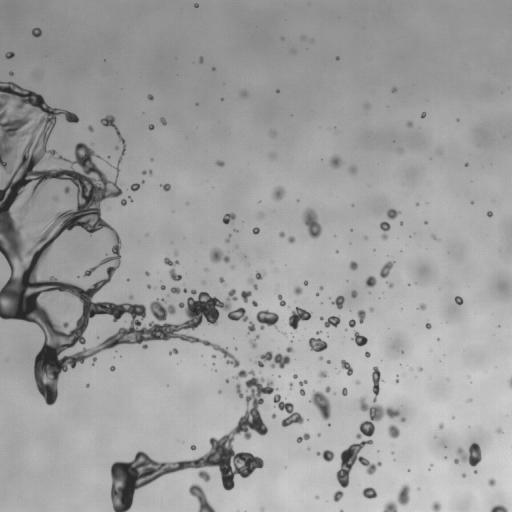droplet: (308, 386, 331, 420), (453, 442, 481, 466), (301, 207, 322, 238), (209, 246, 230, 263), (307, 336, 327, 352), (350, 330, 368, 346), (319, 314, 340, 327), (316, 449, 334, 462), (329, 154, 344, 169), (271, 186, 285, 201), (379, 221, 390, 240), (340, 359, 353, 375), (222, 212, 236, 226), (331, 295, 345, 309), (362, 486, 377, 499), (387, 424, 400, 438), (386, 208, 401, 220), (248, 334, 260, 349), (365, 275, 377, 288), (240, 290, 252, 303), (245, 321, 255, 336), (356, 309, 365, 323), (21, 80, 32, 91), (43, 95, 54, 106), (98, 199, 109, 210), (219, 243, 230, 254), (200, 252, 211, 263), (356, 282, 367, 293), (151, 288, 162, 299), (216, 290, 227, 301), (91, 292, 102, 303), (169, 293, 180, 304), (268, 302, 279, 313), (245, 307, 256, 318), (177, 311, 188, 322), (417, 311, 428, 322), (143, 312, 154, 323), (278, 312, 289, 323), (165, 313, 176, 324), (140, 316, 151, 327), (12, 317, 23, 328), (235, 319, 246, 330), (355, 323, 366, 334), (167, 336, 178, 347), (239, 341, 250, 352), (342, 375, 353, 386), (54, 380, 65, 391), (304, 383, 315, 394), (376, 395, 387, 406), (309, 406, 320, 417), (260, 413, 271, 424), (379, 415, 390, 426), (233, 432, 244, 443), (231, 442, 242, 453), (200, 443, 211, 454), (122, 452, 133, 463), (331, 456, 342, 467), (351, 461, 362, 472), (209, 465, 220, 476), (186, 466, 197, 477), (478, 470, 489, 481), (363, 476, 374, 487), (132, 487, 143, 498), (387, 491, 398, 502), (374, 495, 385, 506), (188, 496, 199, 507), (333, 490, 343, 502), (0, 73, 10, 84), (32, 27, 42, 37), (431, 501, 441, 511), (348, 165, 357, 175), (349, 260, 358, 270), (293, 286, 302, 296), (159, 183, 170, 191), (239, 89, 248, 98), (454, 296, 463, 305), (487, 478, 496, 487), (56, 113, 65, 122), (93, 121, 102, 130), (338, 151, 347, 160), (338, 163, 347, 172), (265, 185, 274, 194), (281, 193, 290, 202), (315, 215, 324, 224), (178, 293, 187, 302), (235, 298, 244, 307), (243, 301, 252, 310), (330, 306, 339, 315), (217, 307, 226, 316), (339, 317, 348, 326), (185, 327, 194, 336), (346, 327, 355, 336), (147, 338, 156, 347), (33, 343, 42, 352), (318, 361, 327, 370), (28, 380, 37, 389), (226, 382, 235, 391), (263, 393, 272, 402), (36, 394, 45, 403), (328, 405, 337, 414), (278, 409, 287, 418), (360, 411, 369, 420), (441, 415, 450, 424), (390, 416, 399, 425), (188, 451, 197, 460), (103, 472, 112, 481), (232, 473, 241, 482), (195, 477, 204, 486), (407, 489, 416, 498), (206, 496, 215, 505), (5, 51, 14, 59), (416, 303, 426, 310), (168, 348, 178, 355), (395, 505, 406, 511), (269, 129, 277, 137), (256, 211, 264, 219), (348, 319, 356, 327), (341, 387, 348, 396), (505, 501, 511, 511), (252, 227, 260, 234), (385, 281, 393, 288), (495, 427, 503, 434), (0, 277, 5, 288), (425, 320, 431, 329), (406, 120, 413, 127), (87, 125, 94, 132), (486, 210, 493, 217), (288, 236, 295, 243), (9, 75, 16, 82), (69, 106, 76, 113), (153, 120, 160, 127), (106, 125, 113, 132), (55, 147, 62, 154), (68, 153, 75, 160), (324, 154, 331, 161), (323, 157, 330, 164), (272, 180, 279, 187), (282, 183, 289, 190), (99, 212, 106, 219), (394, 214, 401, 221), (301, 224, 308, 231), (318, 231, 325, 238), (309, 236, 316, 243), (376, 262, 383, 269), (174, 267, 181, 274), (388, 267, 395, 274), (111, 270, 118, 277), (373, 272, 380, 279), (360, 274, 367, 281), (385, 274, 392, 281), (144, 276, 151, 283), (172, 280, 179, 287), (243, 284, 250, 291), (234, 290, 241, 297), (343, 293, 350, 300), (113, 298, 120, 305), (255, 304, 262, 311), (144, 307, 151, 314), (364, 311, 371, 318), (297, 319, 304, 326), (253, 320, 260, 327), (248, 331, 255, 338), (319, 333, 326, 340), (134, 342, 141, 349), (114, 343, 121, 350), (360, 344, 367, 351), (205, 345, 212, 352), (227, 346, 234, 353), (280, 349, 287, 356), (215, 350, 222, 357), (233, 351, 240, 358), (84, 356, 91, 363), (28, 358, 35, 365), (263, 359, 270, 366), (252, 364, 259, 371), (232, 366, 239, 373), (312, 367, 319, 374), (58, 370, 65, 377), (254, 372, 261, 379), (239, 376, 246, 383), (229, 378, 236, 385), (239, 383, 246, 390), (293, 383, 300, 390), (318, 386, 325, 393), (305, 391, 312, 398), (260, 392, 267, 399), (54, 396, 61, 403), (366, 399, 373, 406), (353, 401, 360, 408), (391, 403, 398, 410), (256, 404, 263, 411), (272, 406, 279, 413), (238, 409, 245, 416), (231, 419, 238, 426), (289, 422, 296, 429), (249, 428, 256, 435), (309, 432, 316, 439), (214, 433, 221, 440), (361, 434, 368, 441), (392, 436, 399, 443), (341, 443, 348, 450), (478, 444, 485, 451), (462, 447, 469, 454), (479, 449, 486, 456), (148, 452, 155, 459), (368, 457, 375, 464), (360, 464, 367, 471), (252, 467, 259, 474), (104, 468, 111, 475), (163, 472, 170, 479), (334, 483, 341, 490), (338, 496, 345, 503), (491, 499, 498, 506), (363, 103, 371, 109), (160, 117, 166, 125), (269, 152, 275, 160), (216, 160, 224, 166), (120, 198, 126, 206), (351, 290, 357, 298), (420, 112, 427, 118), (278, 231, 285, 237), (252, 300, 259, 306), (364, 350, 370, 357), (438, 422, 444, 429), (190, 444, 197, 450), (173, 250, 178, 258), (315, 330, 323, 335), (391, 87, 397, 93), (147, 94, 153, 100), (148, 124, 154, 130), (109, 365, 115, 371), (0, 51, 4, 60), (397, 148, 404, 153), (148, 169, 153, 176), (144, 271, 150, 276), (303, 280, 308, 286), (417, 366, 423, 371), (199, 56, 203, 63), (466, 398, 473, 402), (126, 507, 133, 511), (427, 507, 434, 511), (438, 507, 445, 511), (141, 170, 146, 175), (363, 235, 368, 240), (234, 244, 239, 249), (201, 280, 206, 285), (146, 284, 151, 289), (160, 285, 165, 290), (318, 285, 323, 290), (128, 294, 133, 299), (211, 354, 216, 359), (292, 374, 297, 379), (355, 380, 360, 385), (271, 413, 276, 418), (461, 473, 466, 478), (314, 494, 319, 499), (40, 27, 45, 32), (40, 31, 45, 36), (37, 35, 42, 40), (33, 36, 38, 41), (10, 47, 15, 52), (10, 56, 15, 61), (194, 56, 199, 61), (14, 79, 19, 84), (386, 86, 391, 91), (35, 89, 40, 94), (392, 91, 397, 96), (75, 112, 80, 117), (100, 113, 105, 118), (164, 116, 169, 121), (112, 119, 117, 124), (401, 120, 406, 125), (70, 121, 75, 126), (407, 126, 412, 131), (120, 132, 125, 137), (113, 134, 118, 139), (79, 138, 84, 143), (85, 142, 90, 147), (118, 143, 123, 148), (45, 145, 50, 150), (70, 145, 75, 150), (117, 146, 122, 151), (218, 156, 223, 161), (118, 163, 123, 168), (216, 165, 221, 170), (141, 174, 146, 179), (135, 178, 140, 183), (158, 186, 163, 191), (168, 187, 173, 192), (128, 189, 133, 194), (117, 194, 122, 199), (125, 198, 130, 203), (394, 206, 399, 211), (386, 218, 391, 223), (220, 222, 225, 227), (226, 222, 231, 227), (276, 227, 281, 232), (378, 228, 383, 233), (385, 229, 390, 234), (231, 231, 236, 236), (118, 233, 123, 238), (274, 233, 279, 238), (435, 233, 440, 238), (283, 234, 288, 239), (229, 236, 234, 241), (294, 236, 299, 241), (428, 237, 433, 242), (382, 239, 387, 244), (291, 241, 296, 246), (288, 242, 293, 247), (118, 249, 123, 254), (175, 255, 180, 260), (169, 256, 174, 261), (387, 256, 392, 261), (353, 257, 358, 262), (227, 260, 232, 265), (345, 261, 350, 266), (165, 264, 170, 269), (250, 273, 255, 278), (4, 275, 9, 280), (214, 278, 219, 283), (254, 278, 259, 283), (361, 280, 366, 285), (104, 282, 109, 287), (299, 283, 304, 288), (392, 283, 397, 288), (101, 284, 106, 289), (165, 285, 170, 290), (178, 285, 183, 290), (350, 285, 355, 290), (366, 285, 371, 290), (186, 286, 191, 291), (226, 286, 231, 291), (289, 286, 294, 291), (201, 287, 206, 292), (388, 287, 393, 292), (318, 289, 323, 294), (186, 291, 191, 296), (209, 292, 214, 297), (355, 293, 360, 298), (193, 295, 198, 300), (237, 295, 242, 300), (246, 295, 251, 300), (281, 295, 286, 300), (150, 296, 155, 301), (330, 296, 335, 301), (420, 298, 425, 303), (129, 299, 134, 304), (182, 299, 187, 304), (341, 302, 346, 307), (300, 304, 305, 309), (425, 304, 430, 309), (174, 305, 179, 310), (358, 305, 363, 310), (305, 307, 310, 312), (417, 308, 422, 313), (201, 316, 206, 321), (322, 316, 327, 321), (354, 317, 359, 322), (362, 317, 367, 322), (237, 318, 242, 323), (230, 319, 235, 324), (274, 320, 279, 325), (29, 321, 34, 326), (244, 321, 249, 326), (328, 324, 333, 329), (287, 325, 292, 330), (322, 326, 327, 331), (358, 330, 363, 335), (278, 333, 283, 338), (313, 333, 318, 338), (198, 334, 203, 339), (304, 336, 309, 341), (207, 337, 212, 342), (255, 338, 260, 343), (350, 339, 355, 344), (184, 340, 189, 345), (194, 341, 199, 346), (285, 342, 290, 347), (288, 342, 293, 347), (220, 343, 225, 348), (246, 343, 251, 348), (261, 349, 266, 354), (320, 349, 325, 354), (271, 351, 276, 356), (286, 351, 291, 356), (94, 352, 99, 357), (360, 352, 365, 357), (209, 357, 214, 362), (288, 358, 293, 363), (321, 358, 326, 363), (75, 360, 80, 365), (336, 362, 341, 367), (66, 363, 71, 368), (228, 363, 233, 368), (349, 363, 354, 368), (377, 366, 382, 371), (244, 367, 249, 372), (368, 368, 373, 373), (351, 370, 356, 375), (379, 373, 384, 378), (320, 376, 325, 381), (293, 378, 298, 383), (369, 381, 374, 386), (377, 381, 382, 386), (504, 381, 509, 386), (271, 383, 276, 388), (301, 384, 306, 389), (231, 386, 236, 391), (329, 387, 334, 392), (337, 387, 342, 392), (322, 391, 327, 396), (369, 391, 374, 396), (233, 392, 238, 397), (279, 396, 284, 401), (240, 397, 245, 402), (282, 398, 287, 403), (292, 407, 297, 412), (299, 411, 304, 416), (365, 416, 370, 421), (326, 417, 331, 422), (355, 421, 360, 426), (433, 423, 438, 428), (442, 424, 447, 429), (265, 430, 270, 435), (262, 433, 267, 438), (301, 438, 306, 443), (356, 438, 361, 443), (363, 443, 368, 448), (328, 446, 333, 451), (311, 448, 316, 453), (319, 448, 324, 453), (356, 451, 361, 456), (252, 452, 257, 457), (454, 453, 459, 458), (318, 454, 323, 459), (262, 460, 267, 465), (476, 461, 481, 466), (375, 465, 380, 470), (486, 474, 491, 479), (491, 474, 496, 479), (156, 476, 161, 481), (243, 476, 248, 481), (483, 479, 488, 484), (494, 480, 499, 485), (146, 482, 151, 487), (363, 483, 368, 488), (486, 484, 491, 489), (184, 485, 189, 490), (374, 487, 379, 492), (106, 488, 111, 493), (222, 488, 227, 493), (228, 488, 233, 493), (329, 491, 334, 496), (363, 496, 368, 501), (369, 497, 374, 502), (211, 368, 217, 372), (0, 128, 3, 135), (0, 183, 3, 190), (0, 252, 3, 259), (301, 35, 305, 40), (9, 71, 13, 76), (233, 228, 238, 232), (165, 293, 170, 297), (369, 307, 373, 312), (318, 356, 323, 360), (326, 360, 331, 364), (225, 378, 229, 383), (218, 389, 222, 394), (317, 432, 321, 437), (429, 462, 433, 467), (260, 506, 264, 511), (194, 3, 198, 7), (280, 36, 284, 40), (335, 56, 339, 60), (275, 89, 279, 93), (150, 157, 154, 161), (464, 162, 468, 166), (470, 200, 474, 204), (424, 220, 428, 224), (230, 265, 234, 269), (76, 274, 80, 278), (315, 292, 319, 296), (436, 337, 440, 341), (289, 339, 293, 343), (336, 370, 340, 374), (306, 446, 310, 450), (473, 470, 477, 474), (115, 145, 118, 150), (400, 221, 403, 226), (204, 268, 209, 271), (234, 346, 237, 351), (258, 369, 261, 374), (109, 508, 114, 511), (263, 508, 268, 511), (211, 67, 215, 70), (220, 97, 223, 101), (257, 200, 261, 203), (351, 203, 354, 207), (416, 202, 419, 206), (144, 233, 148, 236), (126, 278, 130, 281), (400, 350, 404, 353), (467, 374, 470, 378), (86, 383, 89, 387), (451, 416, 455, 419), (327, 422, 330, 426), (390, 451, 394, 454), (193, 0, 198, 2), (0, 90, 2, 95), (0, 164, 2, 169), (0, 316, 2, 321), (195, 102, 198, 105), (456, 118, 459, 121), (107, 155, 110, 158), (296, 199, 299, 202), (350, 228, 353, 231), (335, 250, 338, 253), (368, 291, 371, 294), (344, 328, 347, 331), (96, 336, 99, 339), (249, 358, 252, 361), (212, 362, 215, 365), (166, 384, 169, 387), (333, 392, 336, 395), (444, 456, 447, 459), (407, 468, 410, 471), (417, 487, 420, 490), (198, 3, 201, 6), (194, 7, 197, 10), (35, 24, 38, 27), (199, 52, 202, 55), (335, 52, 338, 55), (2, 55, 5, 58), (103, 55, 106, 58), (338, 55, 341, 58), (332, 56, 335, 59), (100, 58, 103, 61), (202, 58, 205, 61), (336, 59, 339, 62), (199, 63, 202, 66), (208, 67, 211, 70), (215, 67, 218, 70), (12, 70, 15, 73), (212, 70, 215, 73), (273, 87, 276, 90), (396, 87, 399, 90), (279, 89, 282, 92), (276, 92, 279, 95), (152, 94, 155, 97), (220, 94, 223, 97), (223, 97, 226, 100), (217, 98, 220, 101), (148, 99, 151, 102), (194, 99, 197, 102), (195, 105, 198, 108), (421, 108, 424, 111), (418, 113, 421, 116), (424, 115, 427, 118), (453, 119, 456, 122), (458, 119, 461, 122), (145, 126, 148, 129), (51, 128, 54, 131), (151, 128, 154, 131), (86, 129, 89, 132), (49, 132, 52, 135), (122, 136, 125, 139), (124, 140, 127, 143), (124, 146, 127, 149), (54, 148, 57, 151), (123, 150, 126, 153), (106, 152, 109, 155), (99, 153, 102, 156), (121, 155, 124, 158), (105, 157, 108, 160), (461, 162, 464, 165), (467, 162, 470, 165), (113, 163, 116, 166), (464, 166, 467, 169), (151, 168, 154, 171), (145, 169, 148, 172), (118, 171, 121, 174), (117, 175, 120, 178), (132, 180, 135, 183), (144, 180, 147, 183), (168, 181, 171, 184), (139, 183, 142, 186), (118, 185, 121, 188), (137, 187, 140, 190), (134, 189, 137, 192), (256, 197, 259, 200), (472, 198, 475, 201), (293, 199, 296, 202), (415, 199, 418, 202), (467, 199, 470, 202), (418, 201, 421, 204), (258, 202, 261, 205), (412, 202, 415, 205), (468, 203, 471, 206), (471, 203, 474, 206), (415, 205, 418, 208), (484, 209, 487, 212), (226, 210, 229, 213), (491, 210, 494, 213), (485, 215, 488, 218), (490, 215, 493, 218), (426, 218, 429, 221), (420, 220, 423, 223), (402, 221, 405, 224), (423, 223, 426, 226), (252, 224, 255, 227), (256, 224, 259, 227), (348, 225, 351, 228), (399, 225, 402, 228), (235, 226, 238, 229), (352, 228, 355, 231), (249, 230, 252, 233), (258, 230, 261, 233), (349, 231, 352, 234), (255, 233, 258, 236), (410, 233, 413, 236), (225, 234, 228, 237), (405, 235, 408, 238), (408, 237, 411, 240), (432, 239, 435, 242), (375, 248, 378, 251), (332, 249, 335, 252), (338, 249, 341, 252), (396, 249, 399, 252), (372, 251, 375, 254), (119, 257, 122, 260), (178, 259, 181, 262), (119, 262, 122, 265), (147, 269, 150, 272), (143, 274, 146, 277), (127, 275, 130, 278), (222, 276, 225, 279), (345, 276, 348, 279), (123, 277, 126, 280), (304, 277, 307, 280), (124, 280, 127, 283), (127, 280, 130, 283), (409, 281, 412, 284), (307, 282, 310, 285), (385, 283, 388, 286), (404, 283, 407, 286), (150, 284, 153, 287), (157, 284, 160, 287), (322, 285, 325, 288), (145, 287, 148, 290), (149, 287, 152, 290), (312, 292, 315, 295), (338, 292, 341, 295), (458, 293, 461, 296), (316, 295, 319, 298), (462, 299, 465, 302), (256, 301, 259, 304), (455, 303, 458, 306), (460, 303, 463, 306), (370, 304, 373, 307), (280, 305, 283, 308), (373, 308, 376, 311), (268, 309, 271, 312), (329, 313, 332, 316), (427, 320, 430, 323), (423, 321, 426, 324), (496, 321, 499, 324), (499, 322, 502, 325), (430, 323, 433, 326), (423, 326, 426, 329), (497, 327, 500, 330), (316, 328, 319, 331), (434, 335, 437, 338), (234, 336, 237, 339), (289, 336, 292, 339), (439, 337, 442, 340), (433, 338, 436, 341), (236, 345, 239, 348), (176, 347, 179, 350), (367, 349, 370, 352), (403, 349, 406, 352), (398, 350, 401, 353), (165, 351, 168, 354), (171, 352, 174, 355), (401, 353, 404, 356), (369, 354, 372, 357), (364, 356, 367, 359), (330, 359, 333, 362), (345, 359, 348, 362), (93, 361, 96, 364), (108, 363, 111, 366), (326, 363, 329, 366), (373, 363, 376, 366), (396, 363, 399, 366), (401, 363, 404, 366), (420, 364, 423, 367), (114, 365, 117, 368), (212, 365, 215, 368), (259, 366, 262, 369), (107, 368, 110, 371), (211, 369, 214, 372), (111, 370, 114, 373), (419, 370, 422, 373), (506, 376, 509, 379), (300, 378, 303, 381), (467, 378, 470, 381), (306, 379, 309, 382), (392, 379, 395, 382), (398, 379, 401, 382), (85, 380, 88, 383), (222, 380, 225, 383), (395, 382, 398, 385), (82, 383, 85, 386), (88, 384, 91, 387), (286, 384, 289, 387), (342, 384, 345, 387), (85, 387, 88, 390), (346, 387, 349, 390), (215, 388, 218, 391), (297, 392, 300, 395), (218, 393, 221, 396), (343, 395, 346, 398), (467, 395, 470, 398), (468, 401, 471, 404), (451, 412, 454, 415), (448, 415, 451, 418), (454, 415, 457, 418), (452, 418, 455, 421), (330, 423, 333, 426), (501, 428, 504, 431), (499, 432, 502, 435), (319, 435, 322, 438), (293, 439, 296, 442), (194, 443, 197, 446), (187, 444, 190, 447), (440, 444, 443, 447), (446, 444, 449, 447), (443, 447, 446, 450), (391, 448, 394, 451), (313, 452, 316, 455), (443, 452, 446, 455), (391, 454, 394, 457), (442, 458, 445, 461), (428, 460, 431, 463), (451, 460, 454, 463), (432, 461, 435, 464), (426, 464, 429, 467), (429, 466, 432, 469), (404, 467, 407, 470), (409, 467, 412, 470), (426, 470, 429, 473), (407, 471, 410, 474), (458, 474, 461, 477), (462, 477, 465, 480), (317, 492, 320, 495), (311, 494, 314, 497), (319, 495, 322, 498), (314, 498, 317, 501), (342, 508, 345, 511), (90, 143, 93, 145), (333, 235, 336, 237), (408, 283, 410, 286), (414, 282, 417, 284), (153, 287, 156, 289), (328, 297, 331, 299), (201, 354, 203, 357), (410, 367, 412, 370), (446, 378, 449, 380), (307, 418, 309, 421), (182, 440, 184, 443), (393, 458, 395, 461), (284, 466, 286, 469), (334, 126, 336, 128), (320, 158, 322, 160), (409, 235, 411, 237), (349, 242, 351, 244), (373, 249, 375, 251), (400, 250, 402, 252), (346, 280, 348, 282), (378, 297, 380, 299), (124, 320, 126, 322), (498, 325, 500, 327), (298, 339, 300, 341), (115, 350, 117, 352), (399, 363, 401, 365), (278, 375, 280, 377), (414, 376, 416, 378), (468, 425, 470, 427), (434, 436, 436, 438), (377, 450, 379, 452), (428, 468, 430, 470), (104, 59, 105, 61), (426, 202, 428, 203), (349, 310, 351, 311), (120, 355, 121, 357), (443, 354, 445, 355), (335, 367, 336, 369), (470, 381, 471, 383), (244, 510, 246, 511), (233, 337, 234, 338)
ligament: (271, 394, 304, 427), (256, 309, 287, 339), (253, 346, 295, 368), (382, 483, 410, 511), (188, 483, 215, 511), (163, 255, 182, 281), (379, 260, 395, 278), (276, 293, 290, 308), (129, 180, 145, 191), (298, 379, 307, 396), (239, 253, 250, 266), (296, 433, 310, 443), (489, 504, 508, 511), (224, 233, 231, 243), (430, 234, 440, 241), (219, 276, 226, 286), (507, 376, 511, 389), (288, 382, 293, 391), (127, 195, 133, 202), (395, 374, 399, 383), (326, 331, 329, 337), (186, 201, 188, 205), (339, 509, 343, 511), (320, 302, 323, 304), (444, 445, 447, 447), (402, 374, 404, 376), (236, 510, 239, 511)
